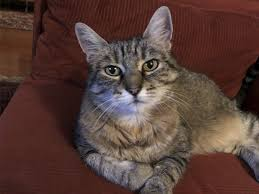cat: (67, 19, 250, 171)
